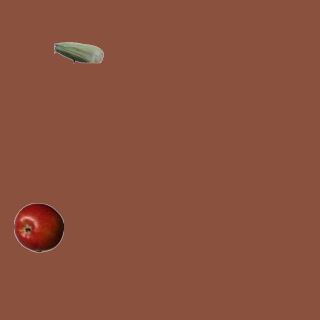Apple Braeburn: (13, 202, 63, 252)
Corn Husk: (53, 27, 103, 77)
